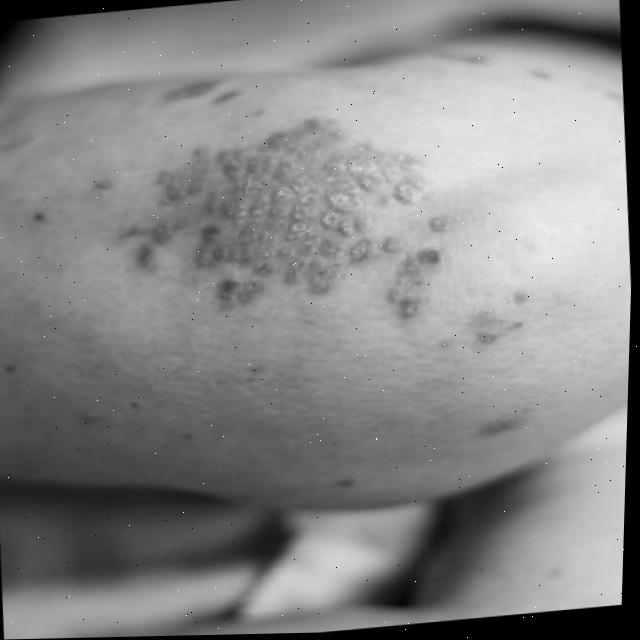Eczema: (154, 91, 550, 336)
